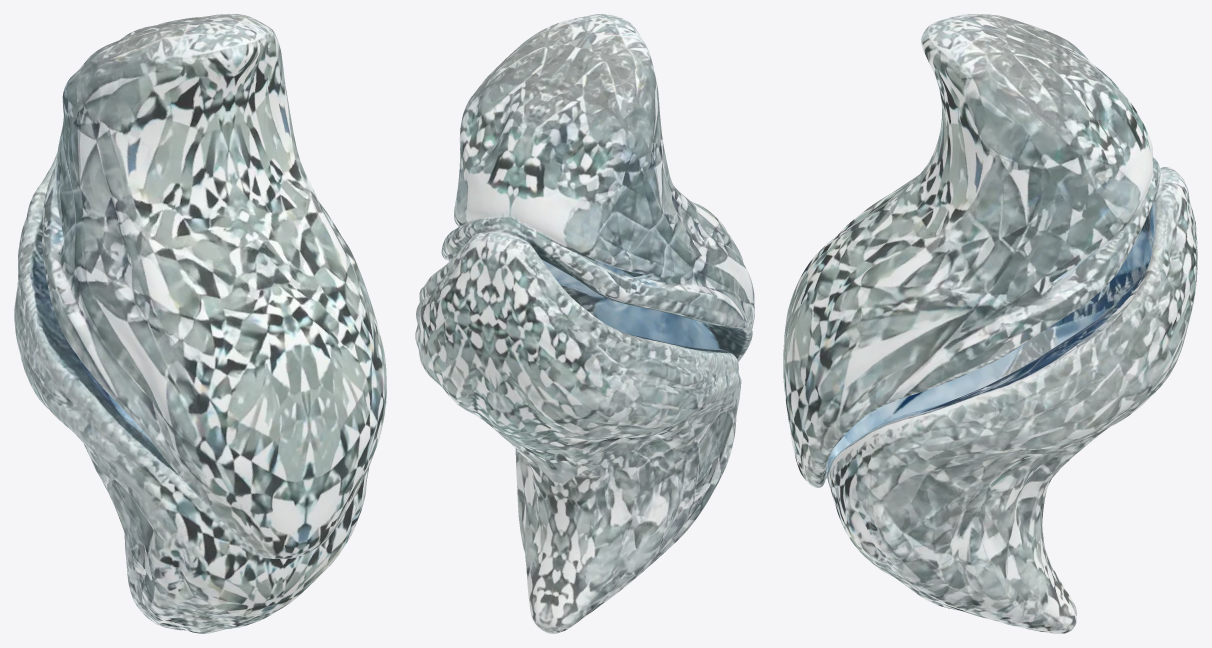
Rendered from opt_crystal_spiral.glb.
The picture shows the model from 3 angles, left to right: view 1: azimuth 30°, elevation 25°; view 2: azimuth 150°, elevation 25°; view 3: azimuth 270°, elevation 25°; orthographic projection. The views are drawn at different scales.
Bounding box in the file's own units: 0.9276 × 1.9 × 1.17.
1 material, 1 textured.
